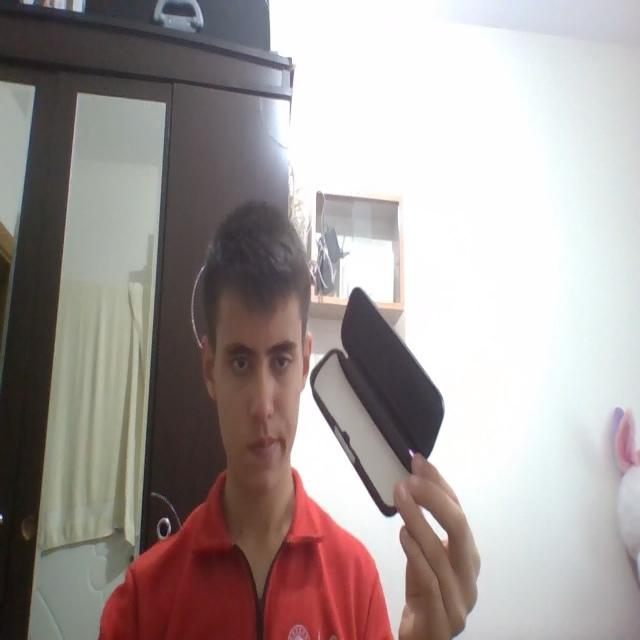glasses-box: (310, 284, 446, 522)
